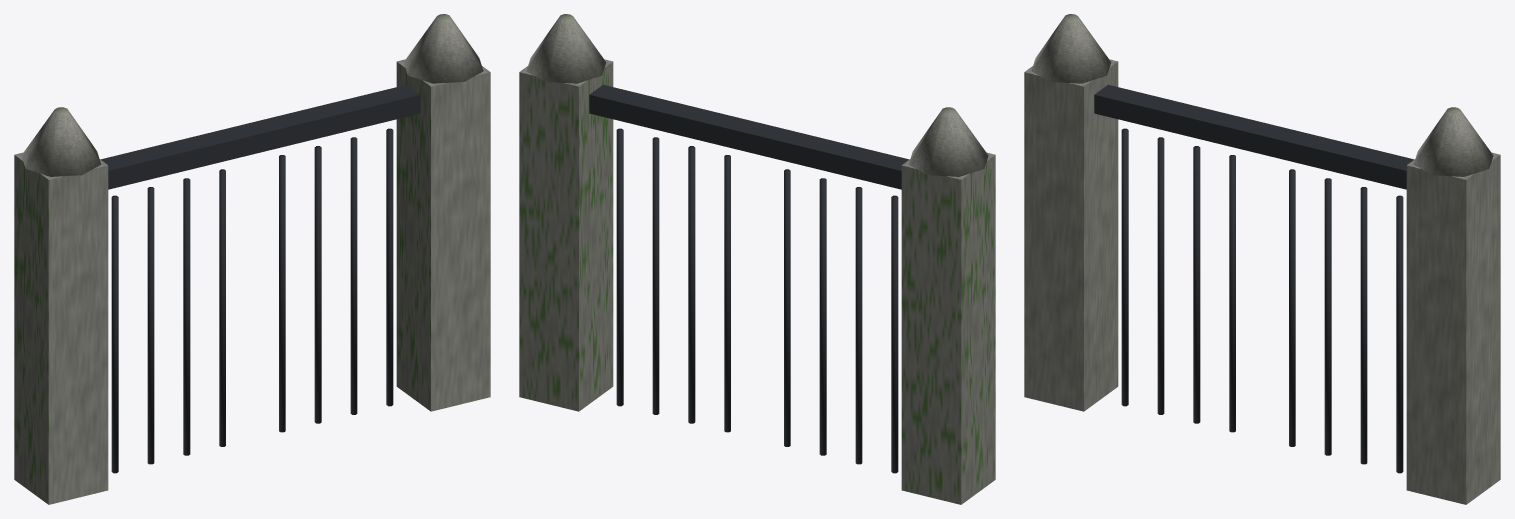
Rendered from prop_gerbang_kubur.glb.
The picture shows the model from 3 angles, left to right: view 1: azimuth 30°, elevation 25°; view 2: azimuth 150°, elevation 25°; view 3: azimuth 330°, elevation 25°; orthographic projection.
Parts seen in each view (by area): view 1: gerbang_kubur; view 2: gerbang_kubur; view 3: gerbang_kubur.
Part boxes in pixels (x1,y1,x2,y2): gerbang_kubur: (14, 14, 490, 504); gerbang_kubur: (519, 14, 995, 504); gerbang_kubur: (1024, 14, 1500, 504).
Size of the model in its own units: 3.8 by 3 by 0.6.
2 materials, 1 textured.
